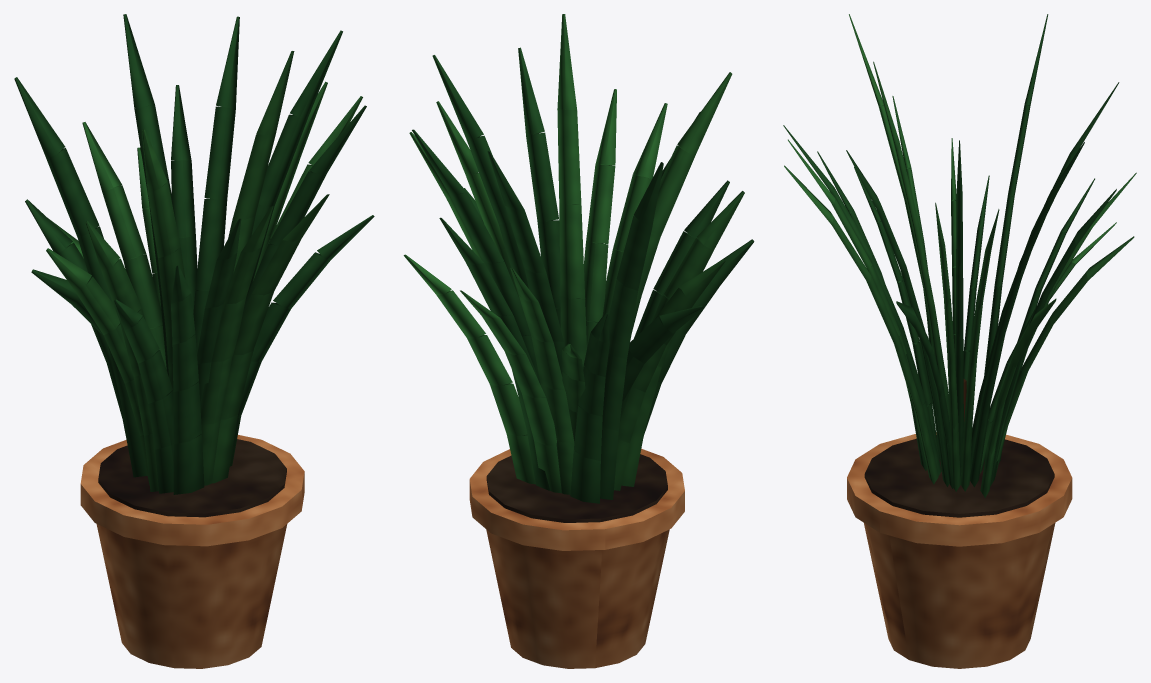
Rendered from plant.glb.
3 renders of one model, left to right at view 1: azimuth 30°, elevation 25°; view 2: azimuth 150°, elevation 25°; view 3: azimuth 270°, elevation 25°, orthographic. The views are drawn at different scales.
Visible parts, largest first — view 1: plant; view 2: plant; view 3: plant.
Part boxes in pixels (x1,y1,x2,y2): plant: (14, 14, 374, 668); plant: (403, 14, 754, 668); plant: (783, 14, 1136, 668).
Bounding box in the file's own units: 0.6004 × 1.12 × 0.5959.
5 materials, 5 textured.
